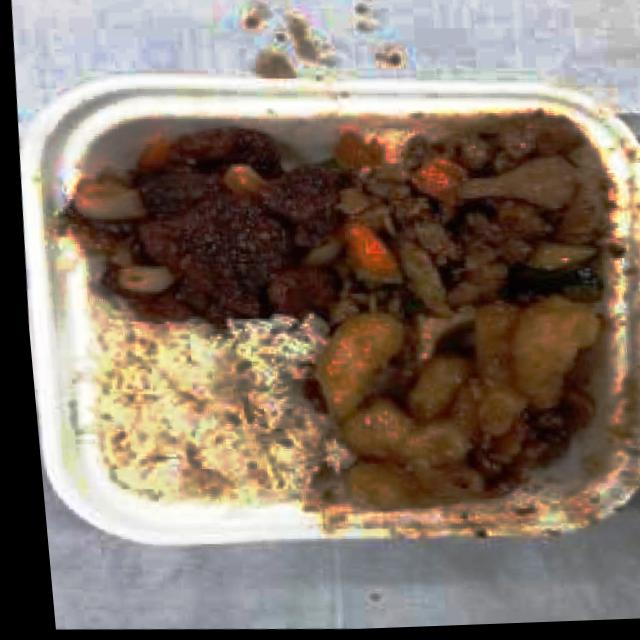Beijing Beef: (64, 124, 350, 324)
Kung Pao Chicken: (330, 110, 613, 322)
rice: (96, 312, 331, 498)
